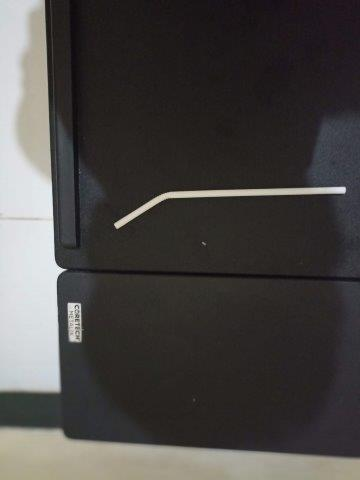sedotan: (114, 186, 346, 228)
